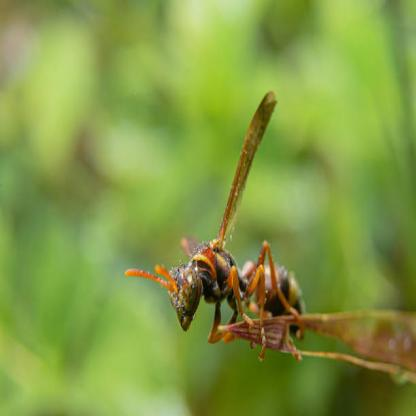sawfly: (126, 92, 329, 358)
